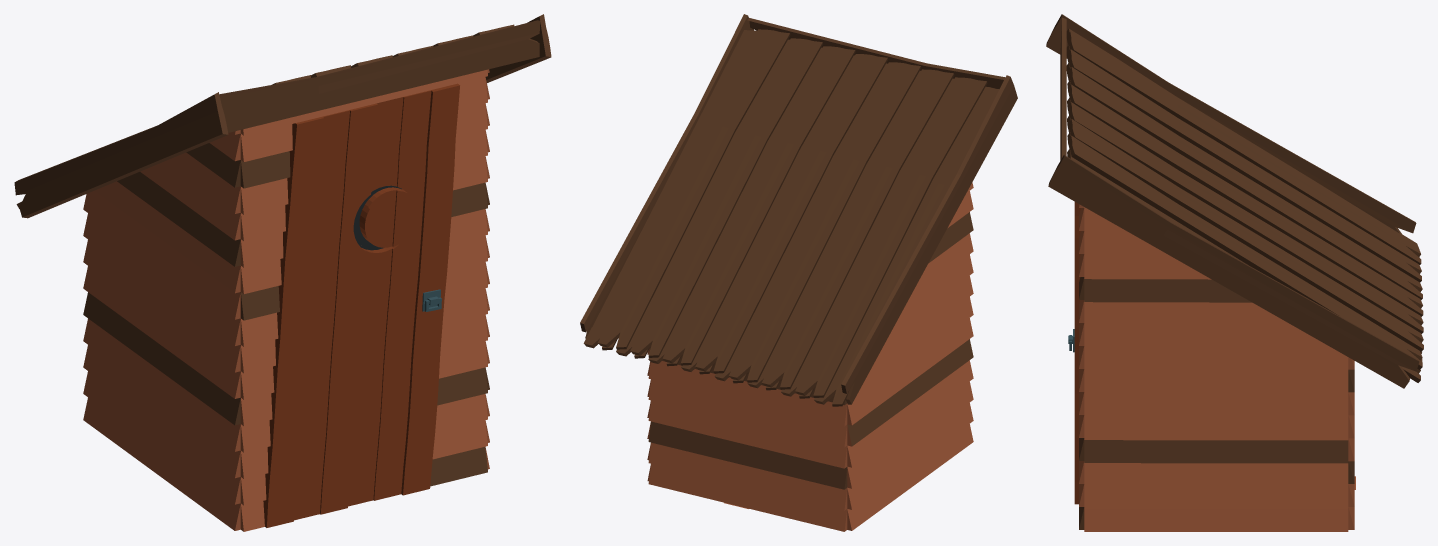
File: Shed_V01.fbx
3 renders of one model, left to right at view 1: azimuth 30°, elevation 25°; view 2: azimuth 150°, elevation 25°; view 3: azimuth 270°, elevation 25°, orthographic. The views are drawn at different scales.
Visible parts, largest first — view 1: Shed_V01; view 2: Shed_V01; view 3: Shed_V01.
Part boxes in pixels (left/top/right/bottom): Shed_V01: left=14, top=14, right=551, bottom=531; Shed_V01: left=580, top=14, right=1017, bottom=531; Shed_V01: left=1046, top=14, right=1423, bottom=531.
Bounding box in the file's own units: 179 × 235 × 203.
